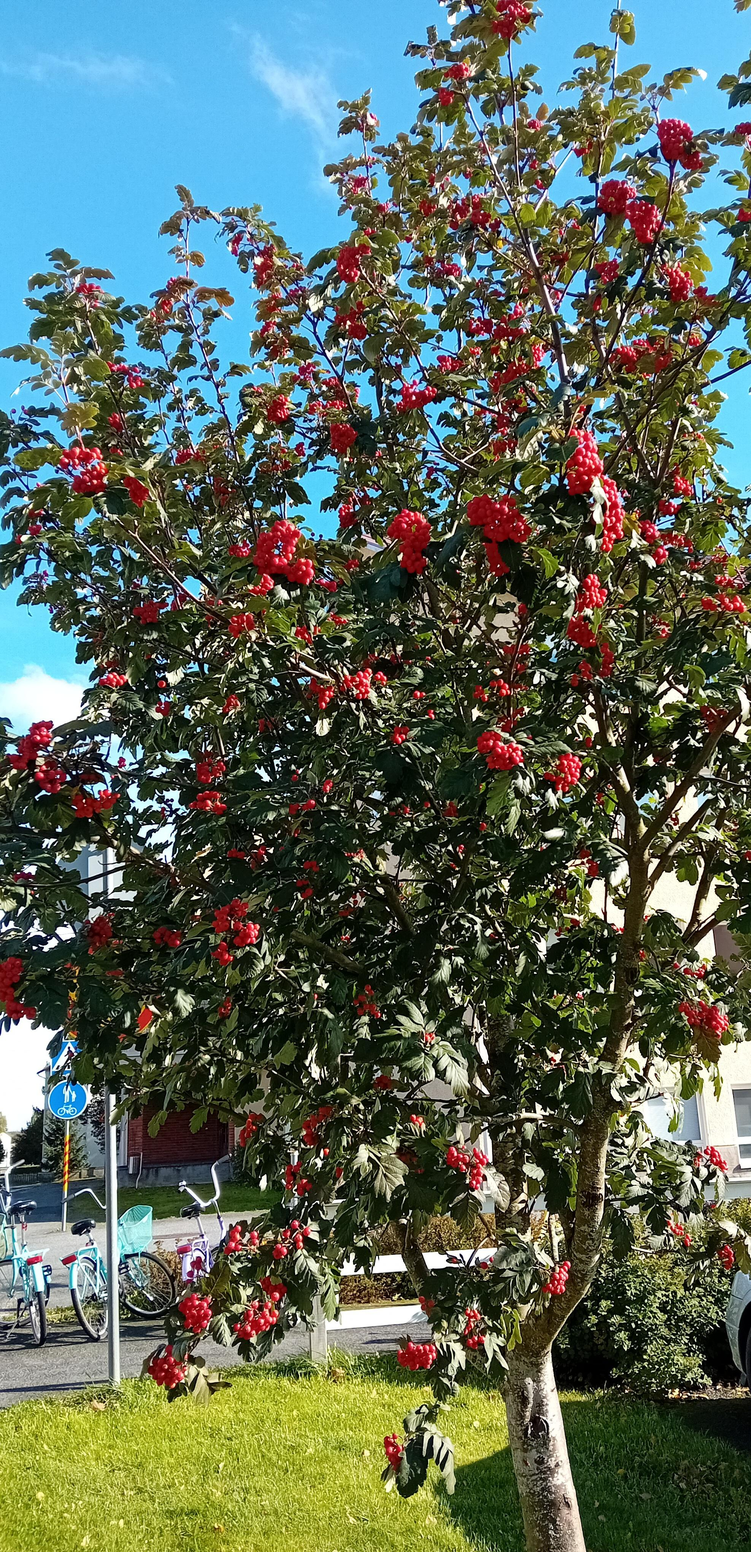Rowan: (2, 2, 749, 1545)
